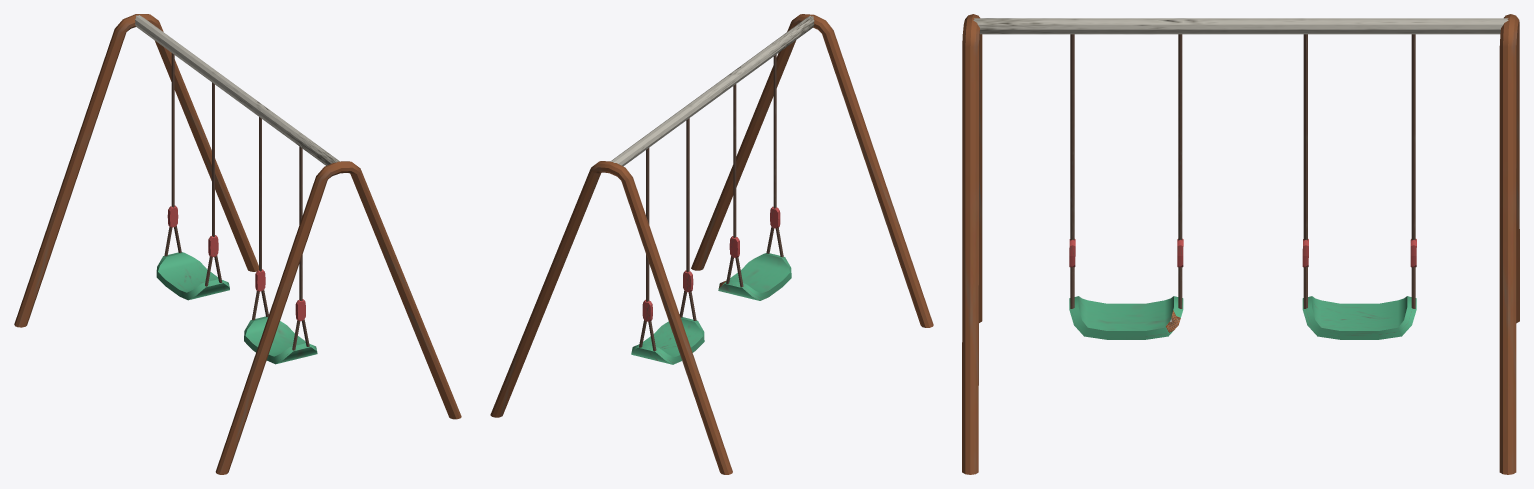
Rendered from group_playground_swing.fbx.
3 views of the same model, side by side, from view 1: azimuth 30°, elevation 25°; view 2: azimuth 150°, elevation 25°; view 3: azimuth 270°, elevation 25° (orthographic). The views are drawn at different scales.
Visible parts, largest first — view 1: fbx_swing_pole, fbx_swing_chair_2, fbx_swing_chair_1; view 2: fbx_swing_pole, fbx_swing_chair_1, fbx_swing_chair_2; view 3: fbx_swing_pole, fbx_swing_chair_1, fbx_swing_chair_2.
Boxes of the visible parts, bbox=[...] form: fbx_swing_pole: bbox=[14, 14, 461, 474]; fbx_swing_chair_2: bbox=[156, 53, 229, 300]; fbx_swing_chair_1: bbox=[244, 117, 317, 364]; fbx_swing_pole: bbox=[490, 14, 933, 474]; fbx_swing_chair_1: bbox=[718, 54, 791, 300]; fbx_swing_chair_2: bbox=[631, 118, 704, 364]; fbx_swing_pole: bbox=[962, 14, 1519, 474]; fbx_swing_chair_1: bbox=[1069, 34, 1183, 339]; fbx_swing_chair_2: bbox=[1302, 34, 1416, 339].
Size of the model in its own units: 3 by 3.33 by 4.46.
1 material, 1 textured.
